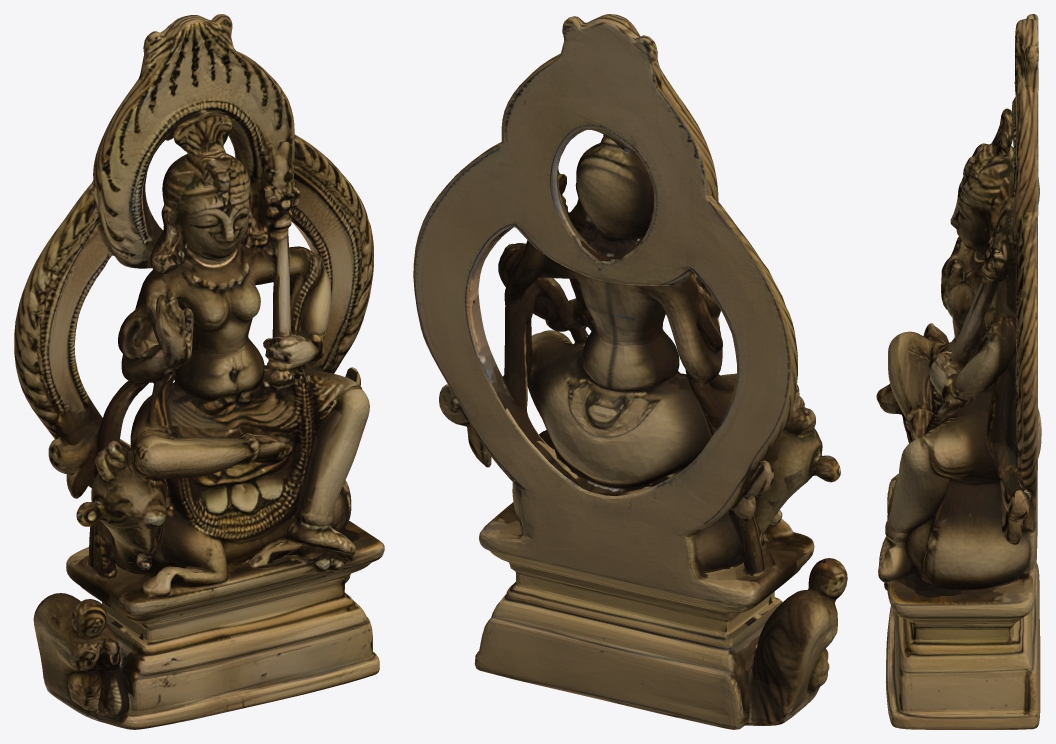
3 renders of one model, left to right at view 1: azimuth 30°, elevation 25°; view 2: azimuth 150°, elevation 25°; view 3: azimuth 270°, elevation 25°, orthographic. The views are drawn at different scales.
Visible parts, largest first — view 1: textured_mesh; view 2: textured_mesh; view 3: textured_mesh.
Boxes of the visible parts, x1,y1,x2,y2 form: textured_mesh: (14, 14, 384, 729); textured_mesh: (413, 14, 847, 729); textured_mesh: (876, 14, 1041, 729).
Bounding box in the file's own units: 1.16 × 1.99 × 0.4608.
Materials: 1 (1 with a texture image).
